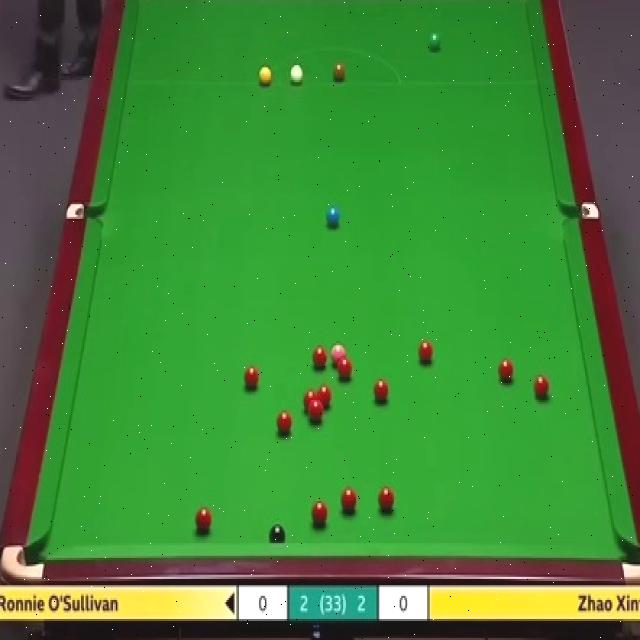black-ball: (268, 525, 286, 542)
blue-ball: (325, 205, 339, 228)
brown-ball: (332, 62, 346, 82)
green-ball: (429, 29, 441, 50)
pink-ball: (331, 342, 346, 367)
red-ball: (194, 505, 213, 532), (274, 408, 292, 436), (340, 487, 358, 515), (496, 357, 515, 383), (310, 499, 328, 526), (308, 398, 324, 427), (533, 375, 550, 402), (242, 364, 260, 389), (315, 383, 332, 408), (378, 487, 395, 510), (374, 377, 389, 402), (418, 340, 434, 362), (304, 389, 318, 414), (313, 346, 327, 371), (338, 360, 352, 380)
white-ball: (290, 66, 303, 80)
yellow-ball: (256, 66, 273, 86)
